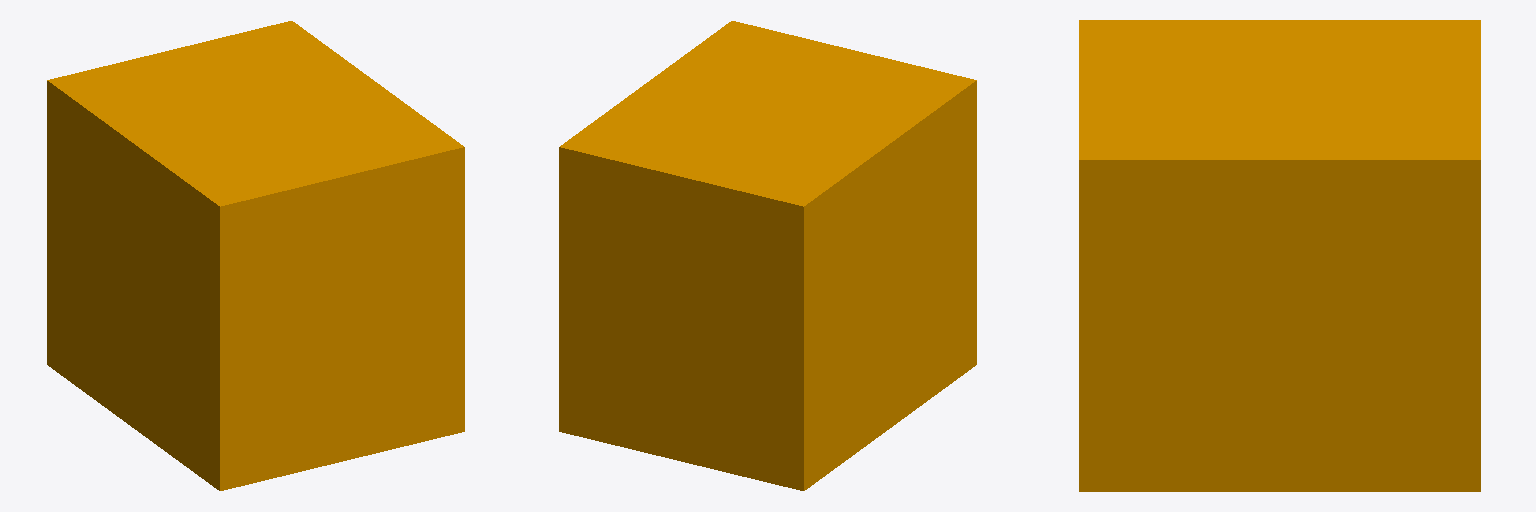
robot.urdf — object:
<robot name="object">
  <link name="object">
    <visual>
      <origin xyz="0 0 0" />
      <geometry>
        <box size="0.07200000000000001 0.08800000000000002 0.08" />
      </geometry>
    </visual>

    <collision>
      <origin xyz="0 0 0" />
      <geometry>
        <box size="0.07200000000000001 0.08800000000000002 0.08" />
      </geometry>
    </collision>

    <inertial>
      <mass value="0.05" />
      <inertia ixx="0.0001" ixy="0.0" ixz="0.0" iyy="0.0001" iyz="0.0" izz="0.0001" />
    </inertial>
  </link>
</robot>

--- Facts derived from the render (not from the file) ---
3 views of the same robot in one strip: view 1: azimuth 30°, elevation 25°; view 2: azimuth 150°, elevation 25°; view 3: azimuth 270°, elevation 25° (orthographic).
Model object with 1 links and 0 joints (none), rooted at object, posed all joints at 0.
Visible links, largest first — view 1: object; view 2: object; view 3: object.
Boxes of the visible links, box(x1,y1,x2,y2) form: object: box(47, 21, 464, 490); object: box(559, 21, 976, 490); object: box(1079, 20, 1480, 491).
Size in the robot's own frame: 0.072 by 0.088 by 0.08 metres.
Geometry: primitives only (box / cylinder / sphere), no mesh files.